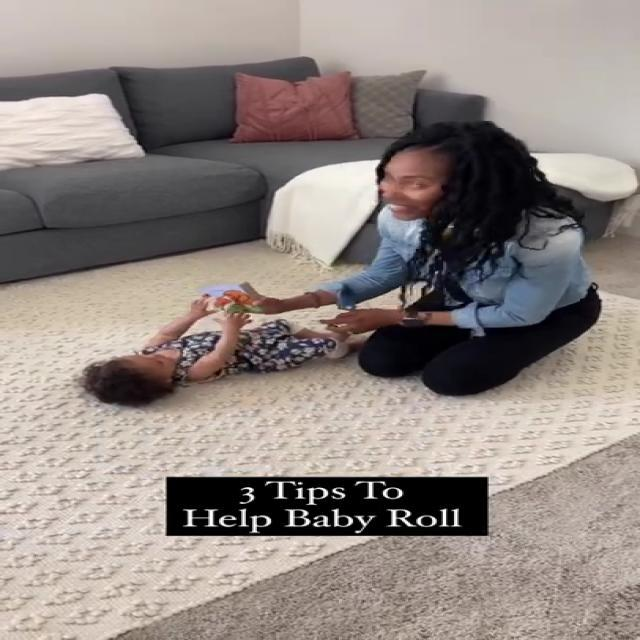baby: (82, 291, 366, 408)
